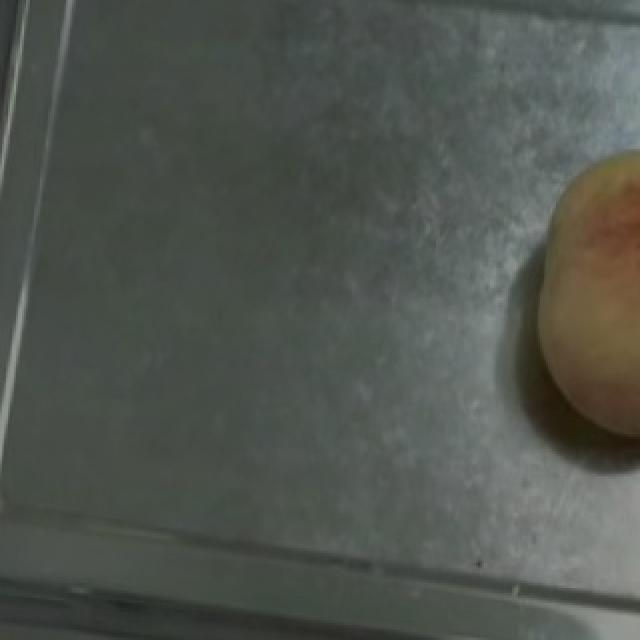Fruit: (510, 134, 640, 459)
